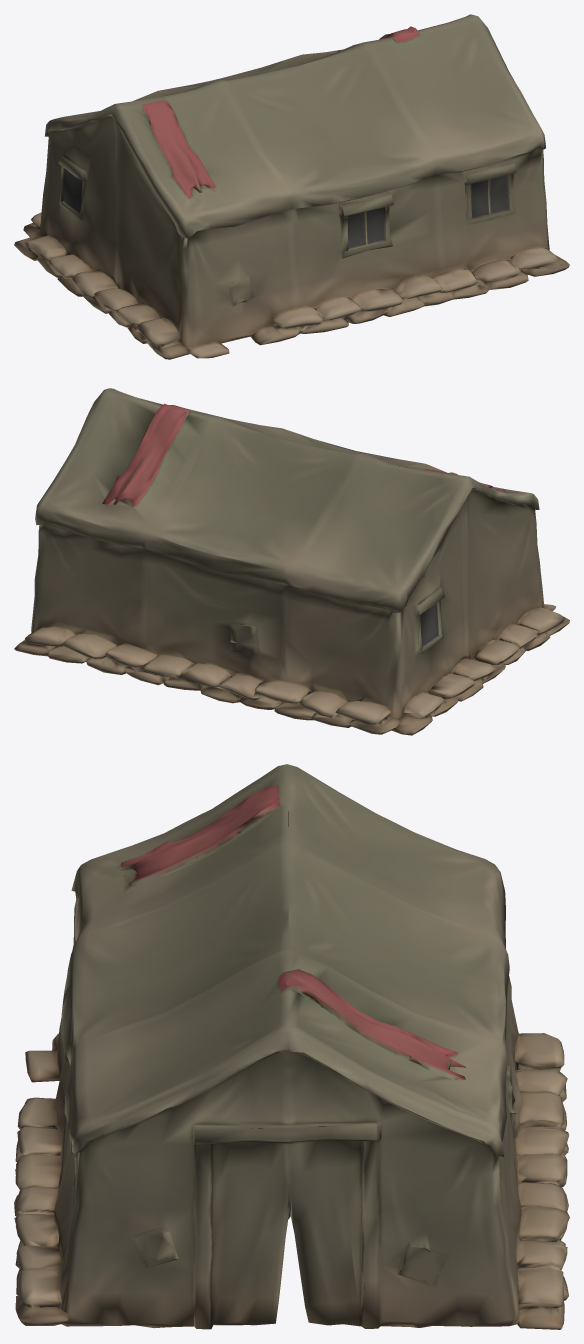
The picture shows the model from 3 angles, top to bottom: view 1: azimuth 30°, elevation 25°; view 2: azimuth 150°, elevation 25°; view 3: azimuth 270°, elevation 25°; orthographic projection. The views are drawn at different scales.
Parts seen in each view (by area): view 1: repaired; view 2: repaired; view 3: repaired.
Part boxes in pixels (x1=…): repaired: x1=14, y1=14, x2=569, y2=359; repaired: x1=14, y1=388, x2=569, y2=735; repaired: x1=14, y1=764, x2=569, y2=1329.
Size of the model in its own units: 1 by 0.475 by 0.791.
Materials: 1 (1 with a texture image).
